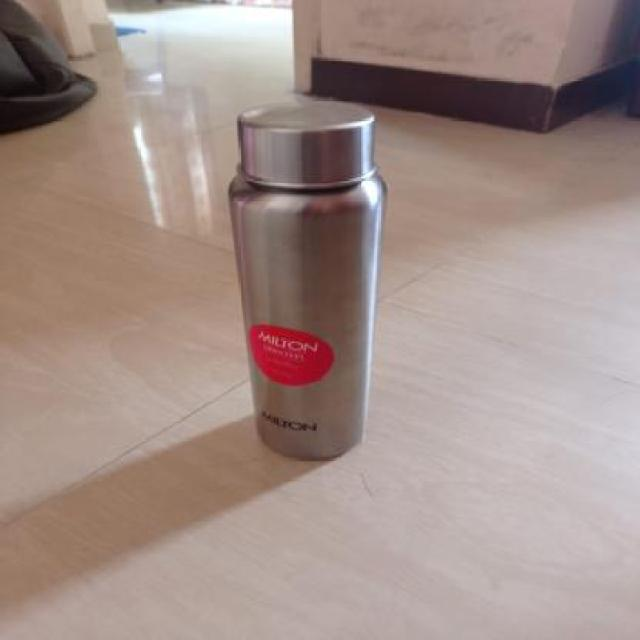bottle: (210, 86, 402, 472)
